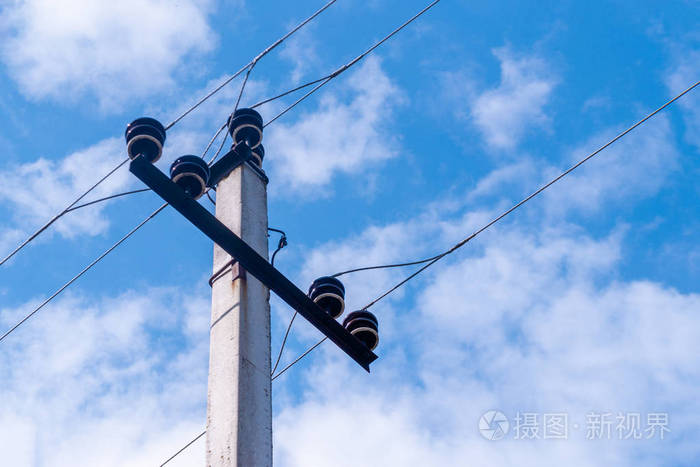insulator: (168, 155, 210, 200), (307, 275, 346, 318), (123, 117, 164, 156), (343, 310, 380, 351), (227, 107, 264, 145)
